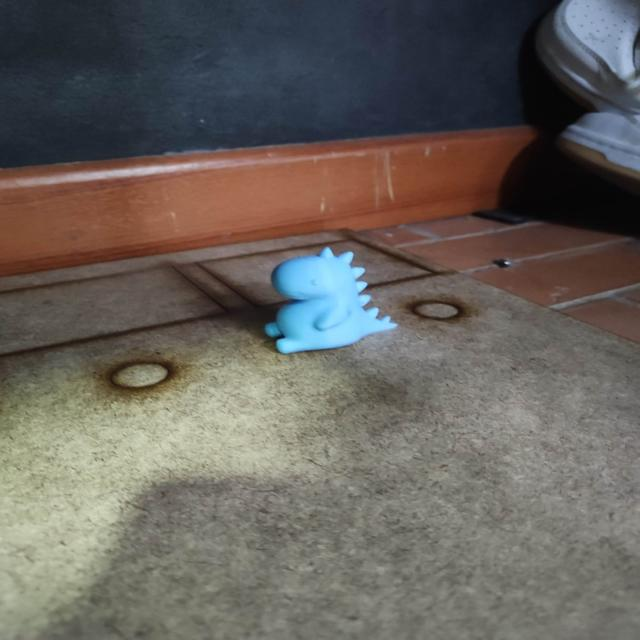DINO: (252, 236, 408, 368)
